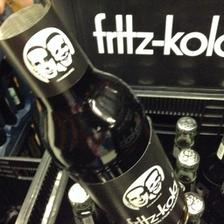Soda: (0, 0, 184, 222)
